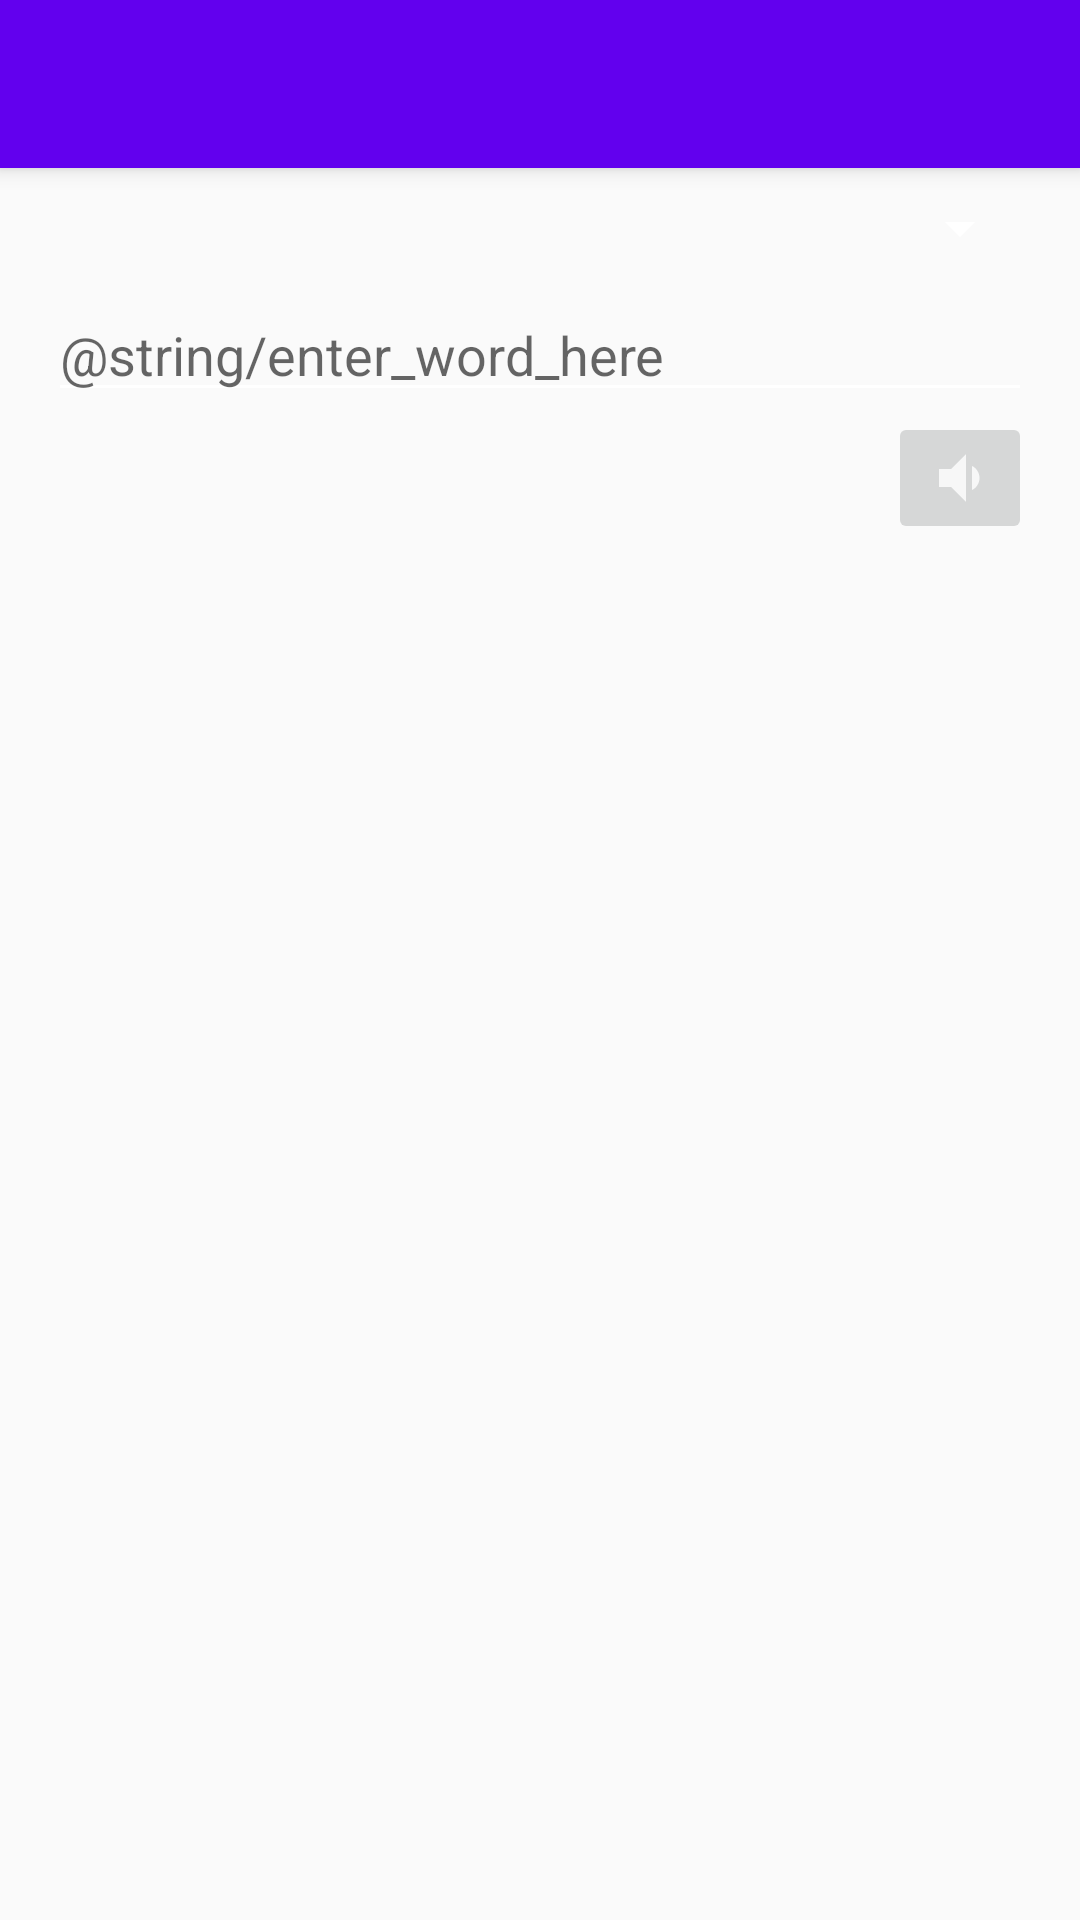

Point at icon controls on the screen. Image size 1080px×1920px, points as [x,y].
sound: [960,478]
